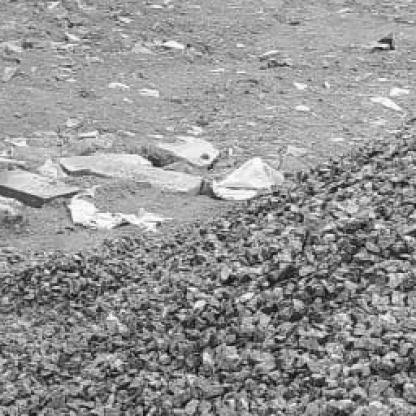cementitious_debris: (1, 119, 414, 413)
